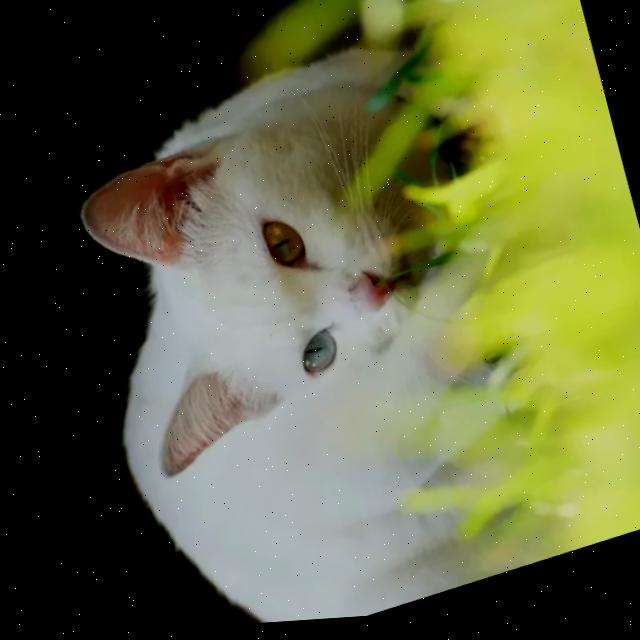Khao Manee: (30, 14, 577, 638)
